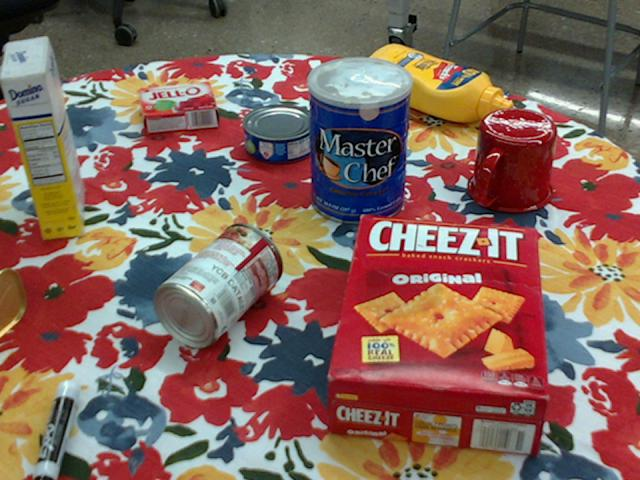cracker_box: (324, 218, 547, 455)
gelatin_box: (139, 84, 216, 135)
large_marker: (30, 379, 80, 479)
master_chef_can: (308, 57, 413, 226)
mug: (465, 109, 556, 214)
mustard_bottle: (359, 43, 511, 122)
potted_meat_can: (0, 267, 25, 335)
sugar_box: (0, 35, 85, 239)
tomato_soup_can: (152, 223, 281, 349)
tuna_fish_can: (241, 105, 316, 163)
